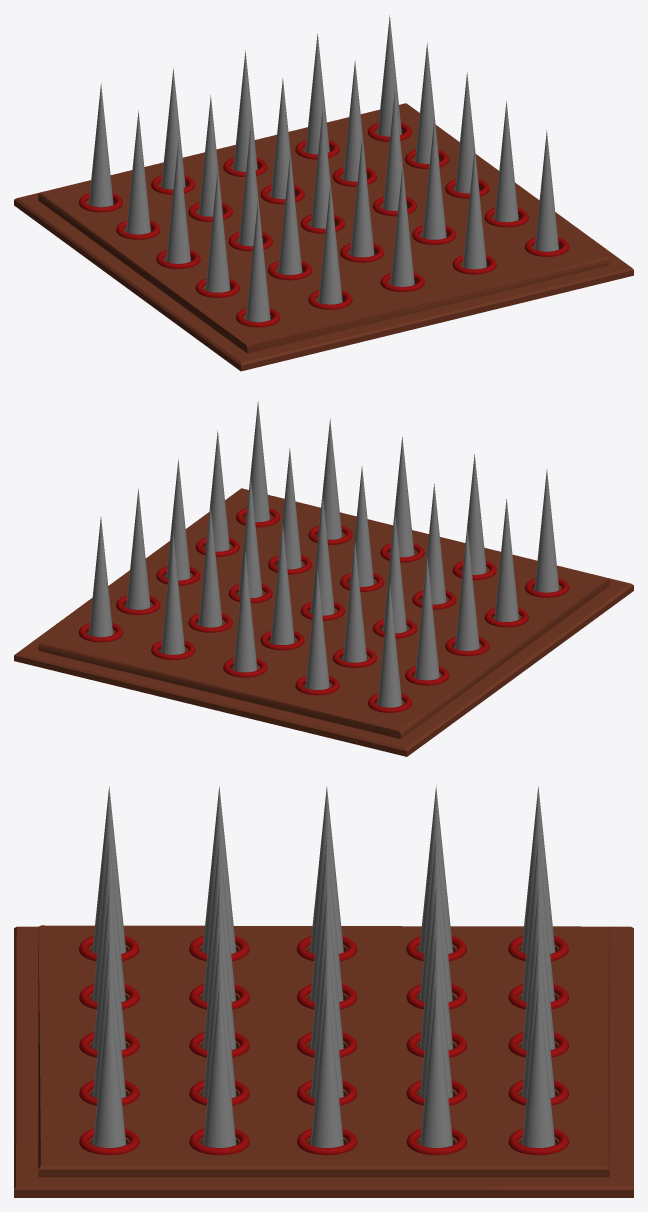
File: spikes.FBX
The picture shows the model from 3 angles, top to bottom: view 1: azimuth 30°, elevation 25°; view 2: azimuth 150°, elevation 25°; view 3: azimuth 270°, elevation 25°; orthographic projection. The views are drawn at different scales.
Parts seen in each view (by area): view 1: base, Cone021, Cone016, Cone006, Cone001, Cone011, Cone018, Cone024, Cone022, Cone019, Cone025, Cone023 (+14 smaller); view 2: base, Cone006, Cone001, Cone021, Cone011, Cone016, Cone009, Cone007, Cone010, Cone008, Cone004, Cone002 (+14 smaller); view 3: base, Cone010, Cone015, Cone005, Cone020, Cone025, Cone011, Cone006, Cone021, Cone016, Cone001, Cone012 (+19 smaller).
Boxes of the visible parts, x1=… form: base: x1=14, y1=103, x2=633, y2=371; Cone021: x1=246, y1=198, x2=270, y2=322; Cone016: x1=205, y1=169, x2=230, y2=292; Cone006: x1=126, y1=110, x2=150, y2=234; Cone001: x1=89, y1=83, x2=113, y2=207; Cone011: x1=166, y1=140, x2=190, y2=263; Cone018: x1=350, y1=136, x2=374, y2=257; Cone024: x1=462, y1=148, x2=486, y2=269; Cone022: x1=318, y1=183, x2=342, y2=304; Cone019: x1=422, y1=118, x2=446, y2=239; Cone025: x1=535, y1=130, x2=558, y2=251; Cone023: x1=390, y1=166, x2=414, y2=286; base: x1=14, y1=488, x2=633, y2=756; Cone006: x1=415, y1=557, x2=439, y2=680; Cone001: x1=377, y1=584, x2=401, y2=707; Cone021: x1=534, y1=469, x2=559, y2=592; Cone011: x1=455, y1=528, x2=479, y2=650; Cone016: x1=494, y1=499, x2=518, y2=621; Cone009: x1=198, y1=506, x2=222, y2=627; Cone007: x1=342, y1=542, x2=366, y2=662; Cone010: x1=126, y1=488, x2=150, y2=609; Cone008: x1=270, y1=524, x2=294, y2=644; Cone004: x1=161, y1=533, x2=184, y2=654; Cone002: x1=305, y1=569, x2=329, y2=689; base: x1=14, y1=925, x2=633, y2=1197; Cone010: x1=419, y1=981, x2=452, y2=1147; Cone015: x1=310, y1=982, x2=343, y2=1147; Cone005: x1=522, y1=982, x2=555, y2=1147; Cone020: x1=203, y1=982, x2=236, y2=1147; Cone025: x1=93, y1=982, x2=126, y2=1147; Cone011: x1=310, y1=786, x2=343, y2=953; Cone006: x1=419, y1=785, x2=453, y2=953; Cone021: x1=92, y1=786, x2=126, y2=953; Cone016: x1=202, y1=786, x2=236, y2=953; Cone001: x1=521, y1=786, x2=555, y2=953; Cone012: x1=310, y1=837, x2=343, y2=1001.
Bounding box in the file's own units: 1.08 × 0.3582 × 1.08.
